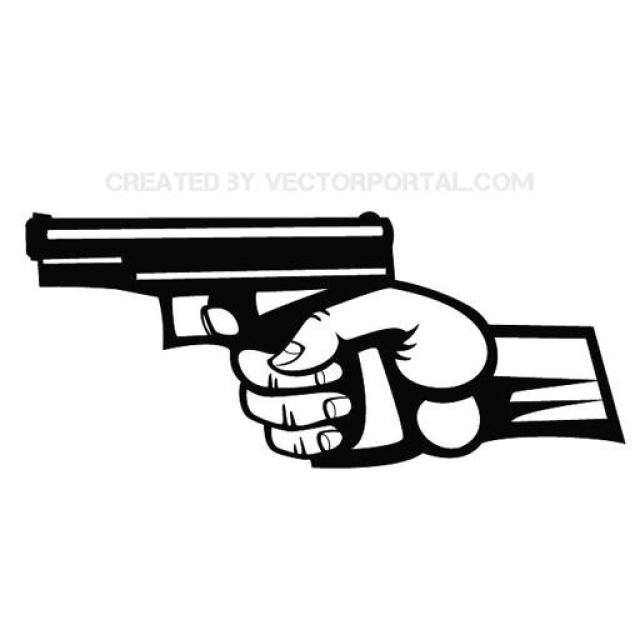pistol: (25, 211, 417, 472)
